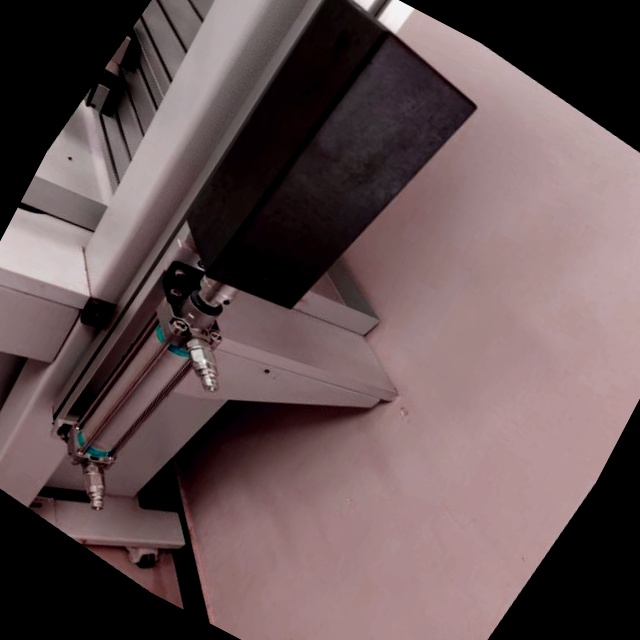load: (0, 0, 530, 617)
